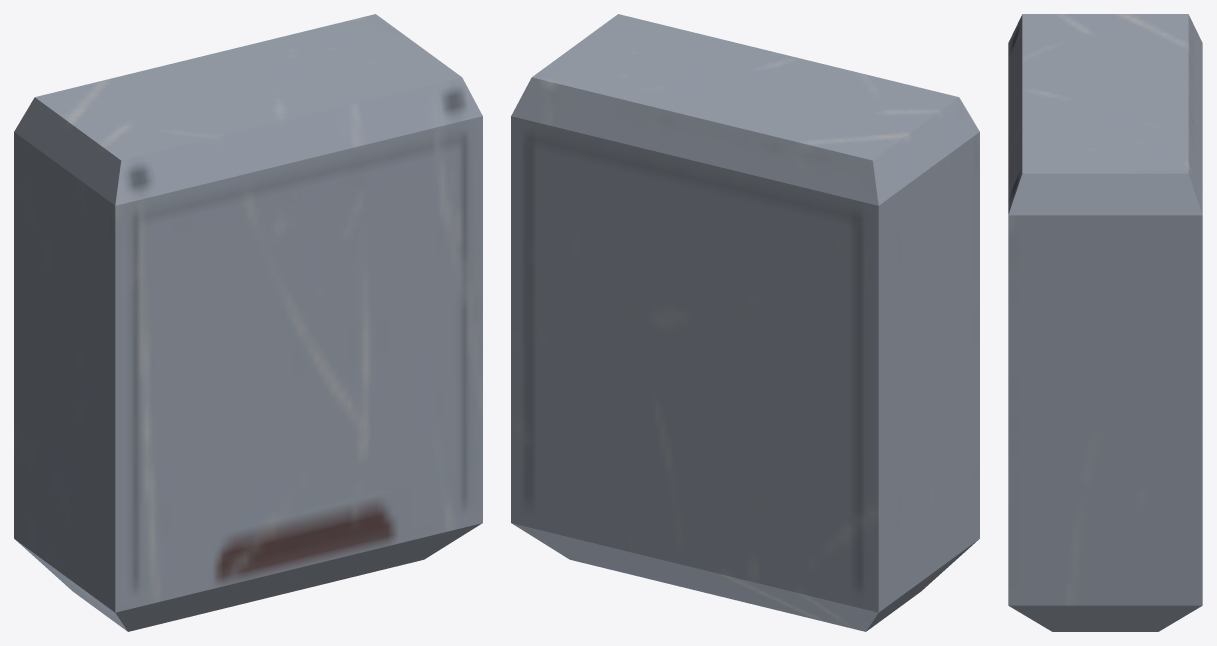
Rendered from Pfb_Soda_ExhaustSystem1.fbx.
3 views of the same model, side by side, from view 1: azimuth 30°, elevation 25°; view 2: azimuth 150°, elevation 25°; view 3: azimuth 270°, elevation 25° (orthographic). The views are drawn at different scales.
Visible parts, largest first — view 1: MAT_Soda_Pipe 1; view 2: MAT_Soda_Pipe 1; view 3: MAT_Soda_Pipe 1.
Part boxes in pixels (<box>): MAT_Soda_Pipe 1: <box>14,14,482,631</box>; MAT_Soda_Pipe 1: <box>511,14,979,631</box>; MAT_Soda_Pipe 1: <box>1008,14,1202,631</box>.
Bounding box in the file's own units: 0.4224 × 0.5362 × 0.2014.
Materials: 1 (1 with a texture image).
